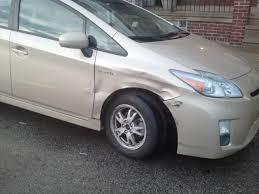fender-dent: (95, 64, 179, 104)
